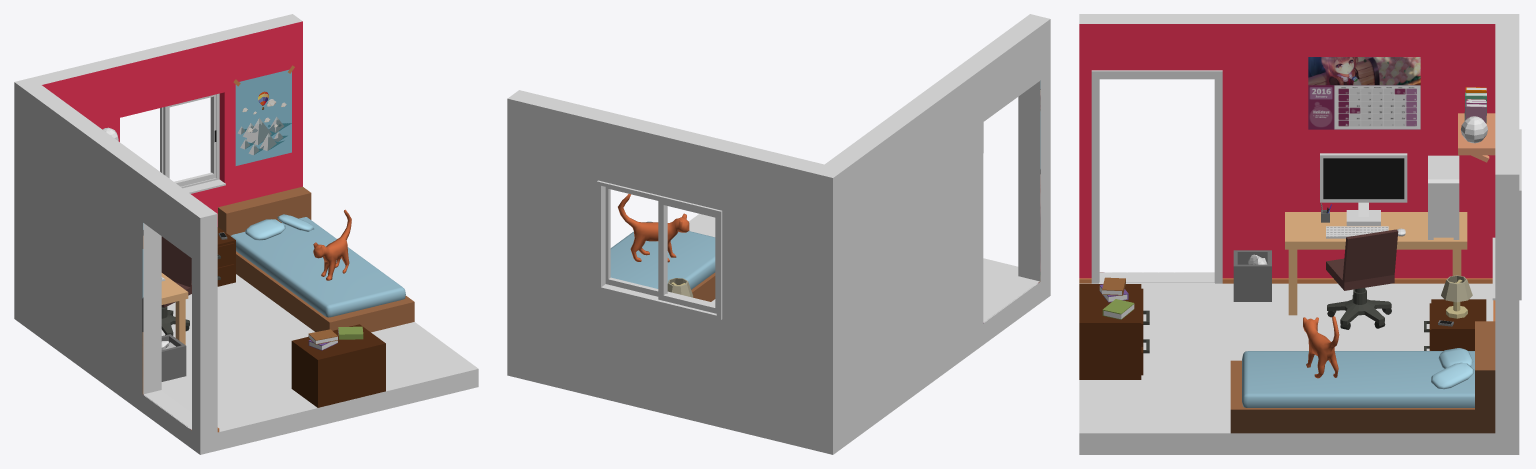
Rendered from low-poly-room-without-door.fbx.
3 views of the same model, side by side, from view 1: azimuth 30°, elevation 25°; view 2: azimuth 150°, elevation 25°; view 3: azimuth 270°, elevation 25° (orthographic). The views are drawn at different scales.
Parts seen in each view (by area): view 1: room-without-door.001, Cube.002, Cube.004; view 2: room-without-door.001, Cube.001, Cube.004; view 3: room-without-door.001, Cube.004.
Part boxes in pixels (x1,y1,x2,y2): room-without-door.001: (14,14,478,454); Cube.002: (143,223,160,394); Cube.004: (143,390,191,429); room-without-door.001: (507,14,1050,454); Cube.001: (1019,81,1040,281); Cube.004: (983,276,1039,322); room-without-door.001: (1079,14,1521,454); Cube.004: (1099,272,1214,282).
Bounding box in the file's own units: 320 × 260 × 372.
